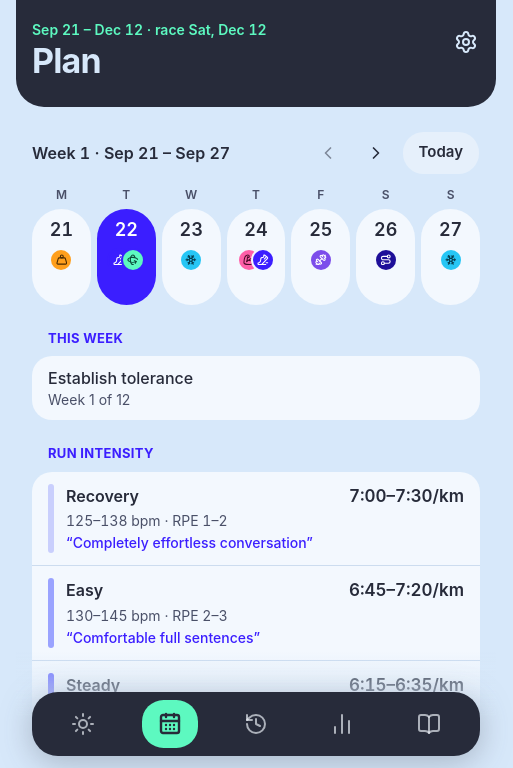
Test: Plan › reflects logged status in the week strip
Check: the button named "Tuesday, September 22: RUN completed, MOB planned" is shown, box [97, 208, 156, 304]
Click the button "Today".
click(441, 152)  # box [402, 130, 480, 174]
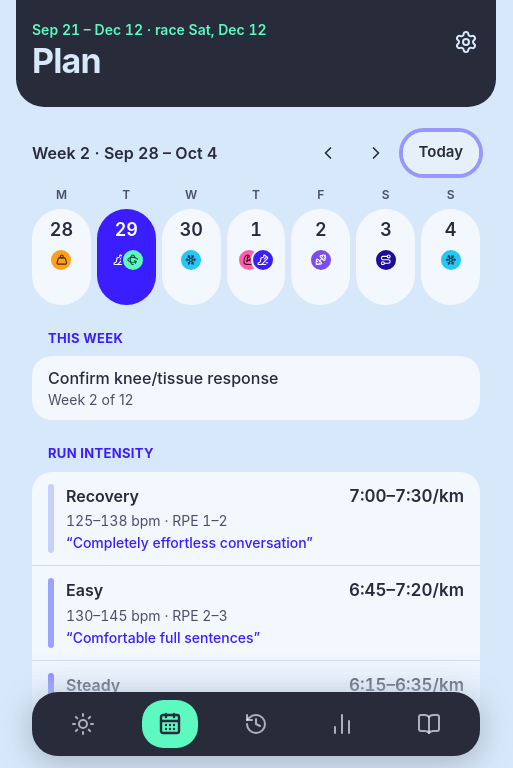
Check: the heading "Week 2 · Sep 28 – Oct 4" is shown, box [32, 142, 217, 162]
